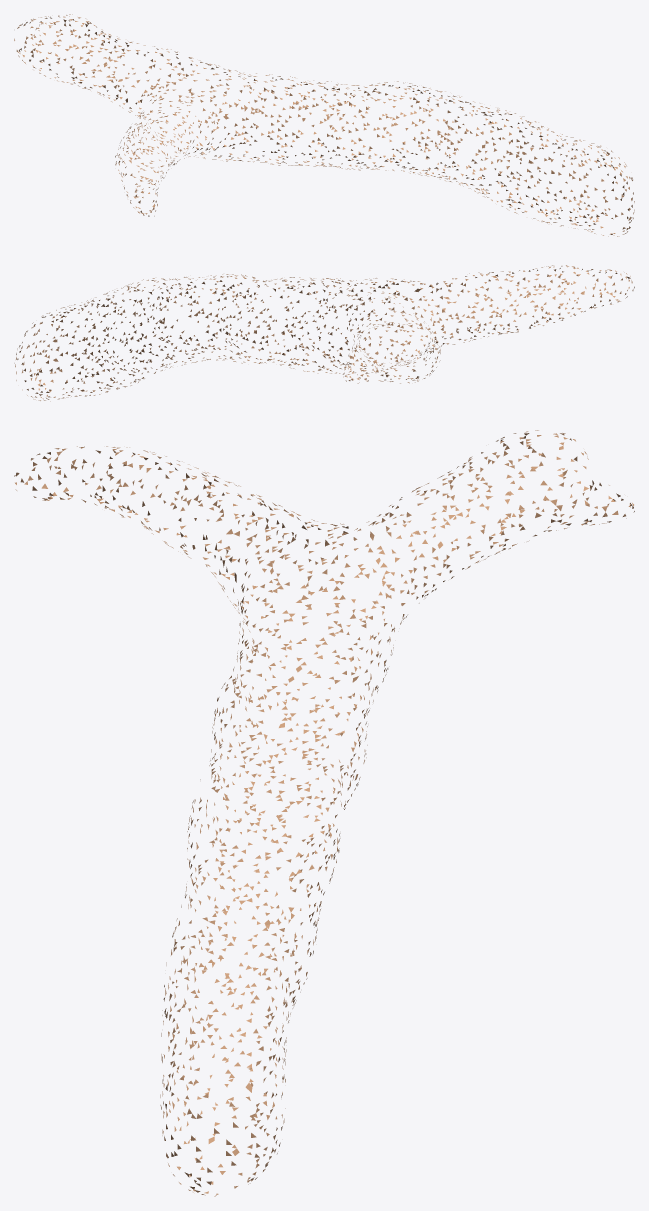
The model's file is morph_005.glb.
3 views of the same model, one above another, from view 1: azimuth 30°, elevation 25°; view 2: azimuth 150°, elevation 25°; view 3: azimuth 270°, elevation 25° (orthographic). The views are drawn at different scales.
Size of the model in its own units: 118 by 51.74 by 73.19.
